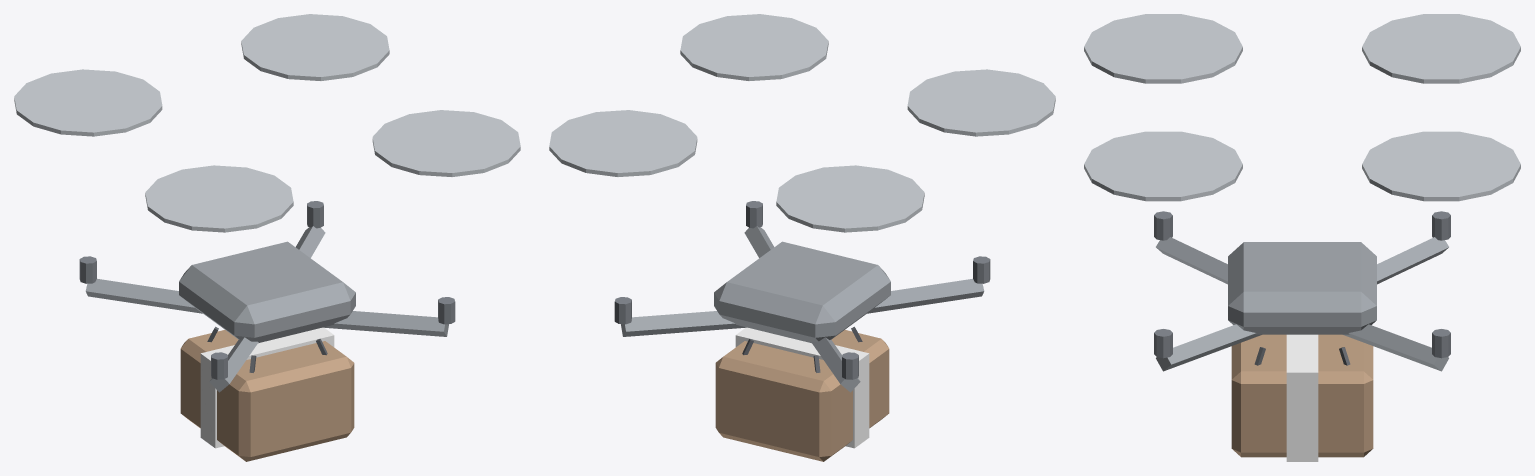
File: cargodrone.glb
The picture shows the model from 3 angles, left to right: view 1: azimuth 30°, elevation 25°; view 2: azimuth 150°, elevation 25°; view 3: azimuth 270°, elevation 25°; orthographic projection. The views are drawn at different scales.
Visible parts, largest first — view 1: main, rotor; view 2: main, rotor; view 3: main, rotor.
Boxes of the visible parts, left/top/right/bottom form: main: left=79, top=201, right=455, bottom=461; rotor: left=14, top=14, right=520, bottom=232; main: left=614, top=201, right=990, bottom=461; rotor: left=549, top=14, right=1055, bottom=232; main: left=1154, top=211, right=1450, bottom=461; rotor: left=1084, top=14, right=1520, bottom=201.
Bounding box in the file's own units: 0.5493 × 0.456 × 0.5544.
